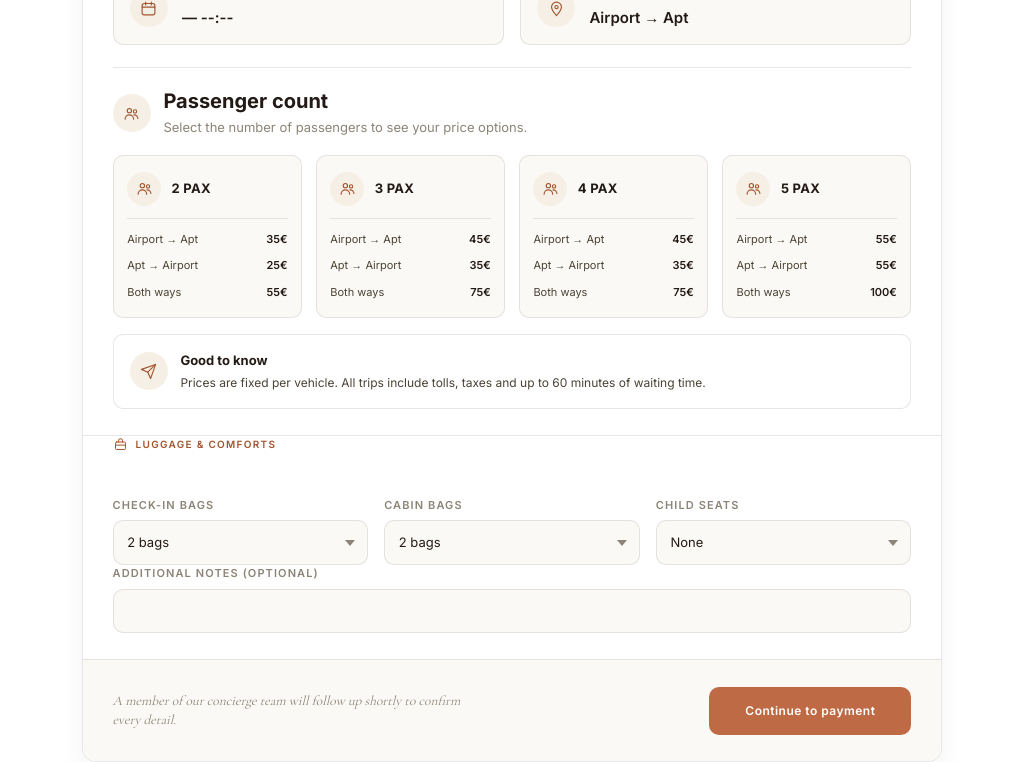
validation still blocks an incomplete submission
This screenshot has width=1024, height=762.
(page scrolled)
What coordinates should you click on to do the following:
click the button with test id "submit"
I would click on:
 (810, 711)
Its box is [709,687,911,735].
(page scrolled)
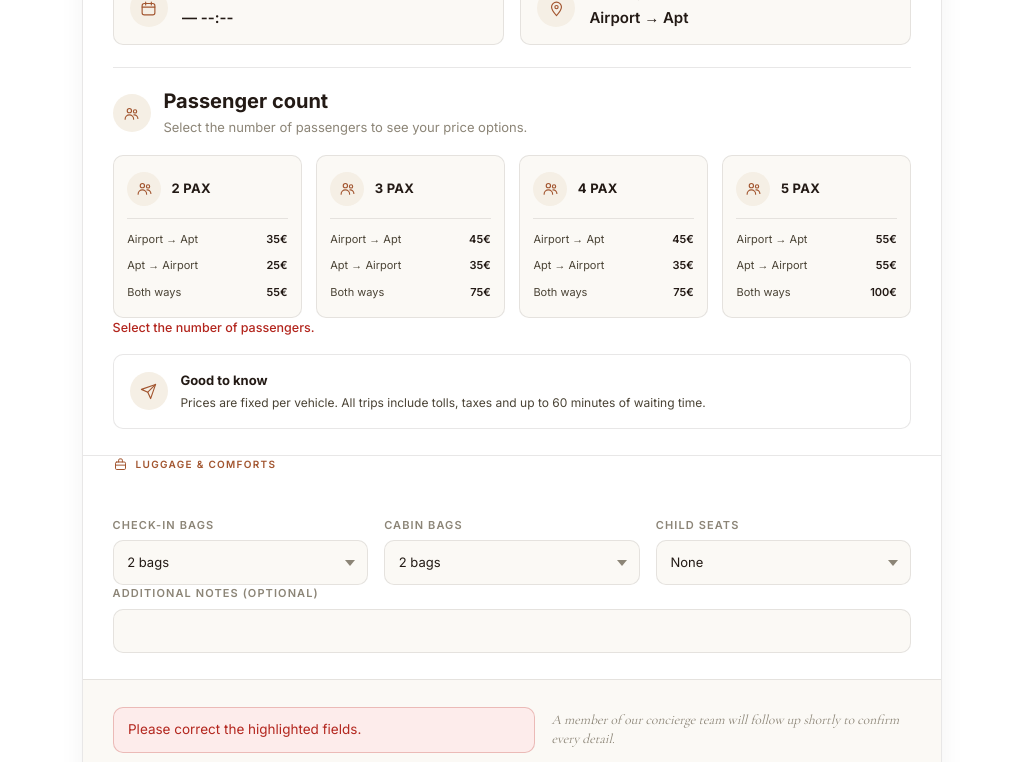
Expected: the message "Please correct the highlighted fields." is shown, [113,707,535,753]
